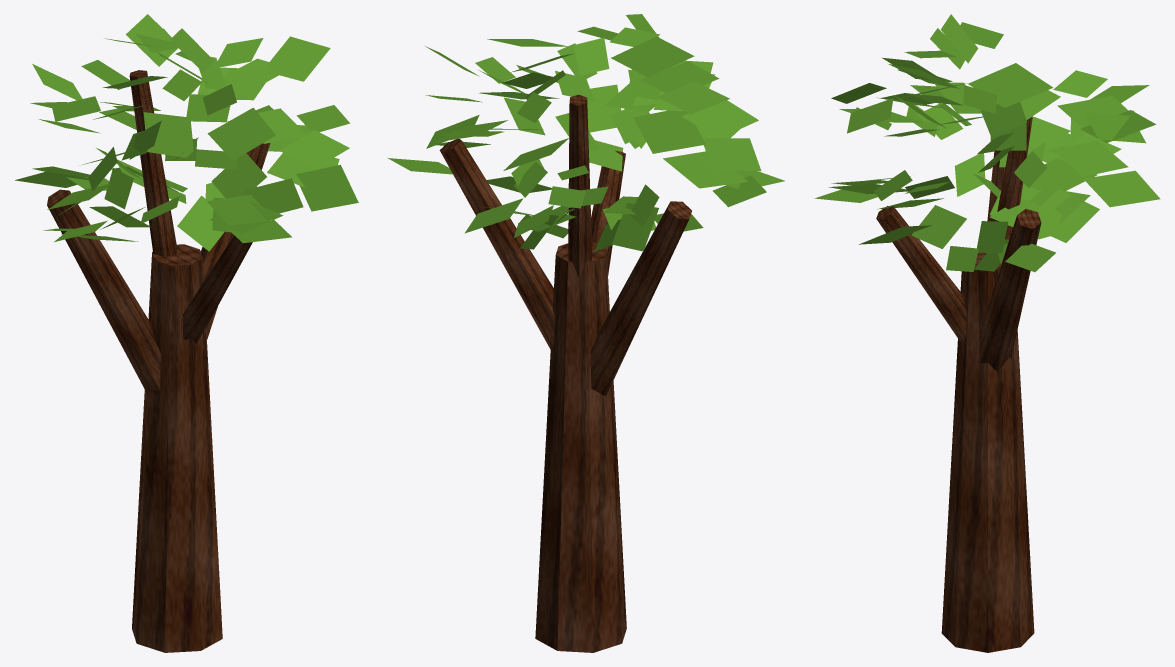
The model's file is nodo-tree-oak-final-x30JwCLF.glb.
3 views of the same model, side by side, from view 1: azimuth 30°, elevation 25°; view 2: azimuth 150°, elevation 25°; view 3: azimuth 270°, elevation 25° (orthographic). The views are drawn at different scales.
Parts seen in each view (by area): view 1: nodo-tree-oak-final; view 2: nodo-tree-oak-final; view 3: nodo-tree-oak-final.
Part boxes in pixels (<box>): nodo-tree-oak-final: <box>15,14,358,652</box>; nodo-tree-oak-final: <box>387,14,784,652</box>; nodo-tree-oak-final: <box>814,14,1160,652</box>.
Bounding box in the file's own units: 18.35 × 31.03 × 16.82.
Materials: 2 (2 with a texture image).
